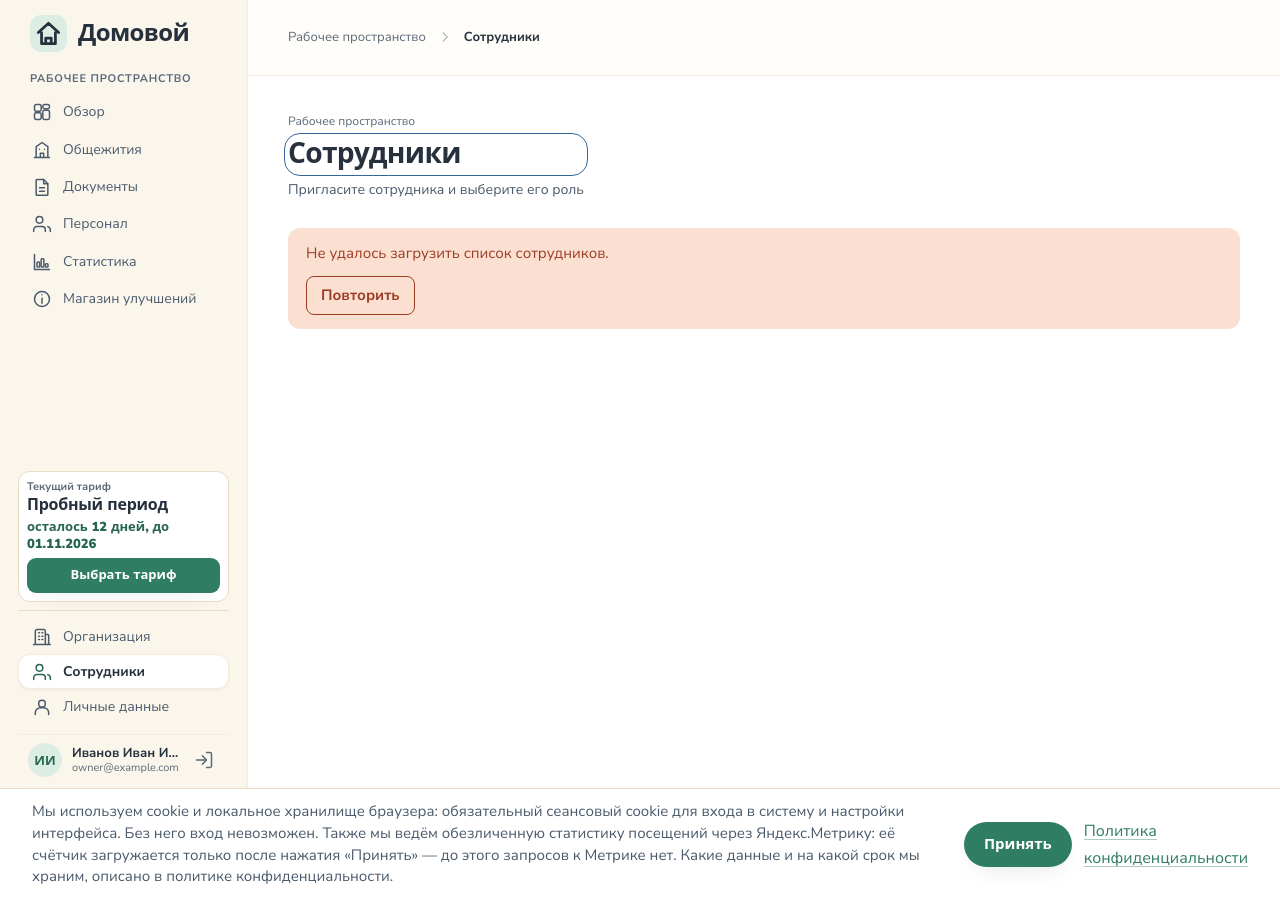
it: экран сотрудников › даёт повторить загрузку после сбоя
The image size is (1280, 900).
Check: the message with test id "members-error" shows "Не удалось загрузить список сотрудников", box [306,244,609,264]
Click the button "Повторить".
click(360, 295)  # box [306,276,415,315]
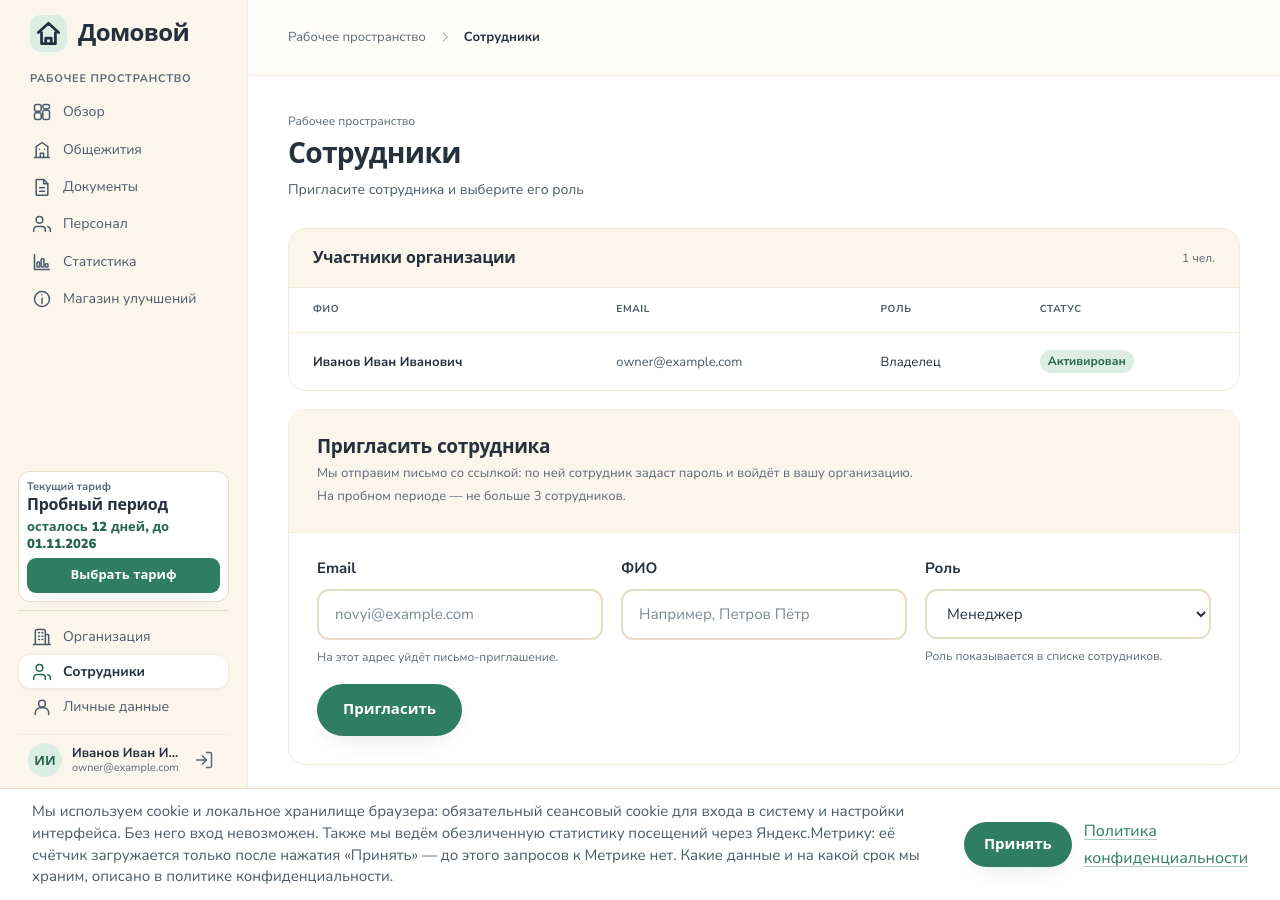
Check: the number of rows with test id "member-row" is 1, box [289,333,1239,390]
